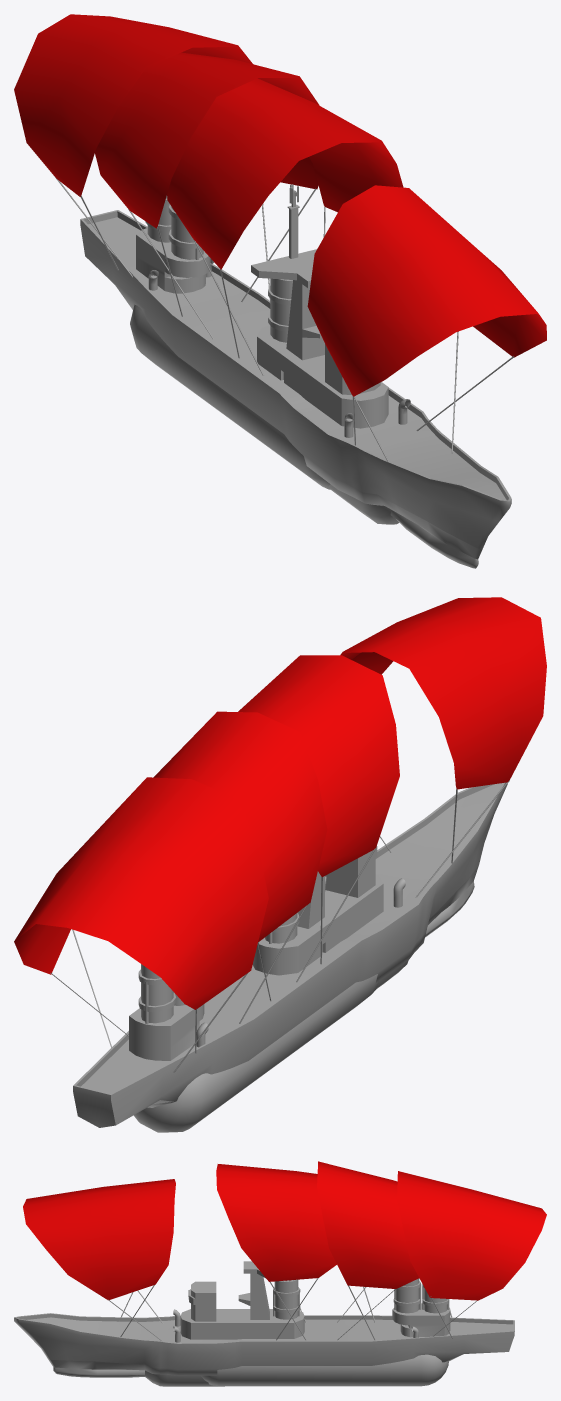
The model's file is ship_navy_basic_02.FBX.
3 views of the same model, one above another, from view 1: azimuth 30°, elevation 25°; view 2: azimuth 150°, elevation 25°; view 3: azimuth 270°, elevation 25° (orthographic). The views are drawn at different scales.
Parts seen in each view (by area): view 1: ship_navy_basic_02; view 2: ship_navy_basic_02; view 3: ship_navy_basic_02.
Part boxes in pixels (x1=…): ship_navy_basic_02: x1=14, y1=14, x2=546, y2=568; ship_navy_basic_02: x1=14, y1=597, x2=546, y2=1132; ship_navy_basic_02: x1=14, y1=1161, x2=546, y2=1386.
Bounding box in the file's own units: 1663 × 3094 × 6914.
